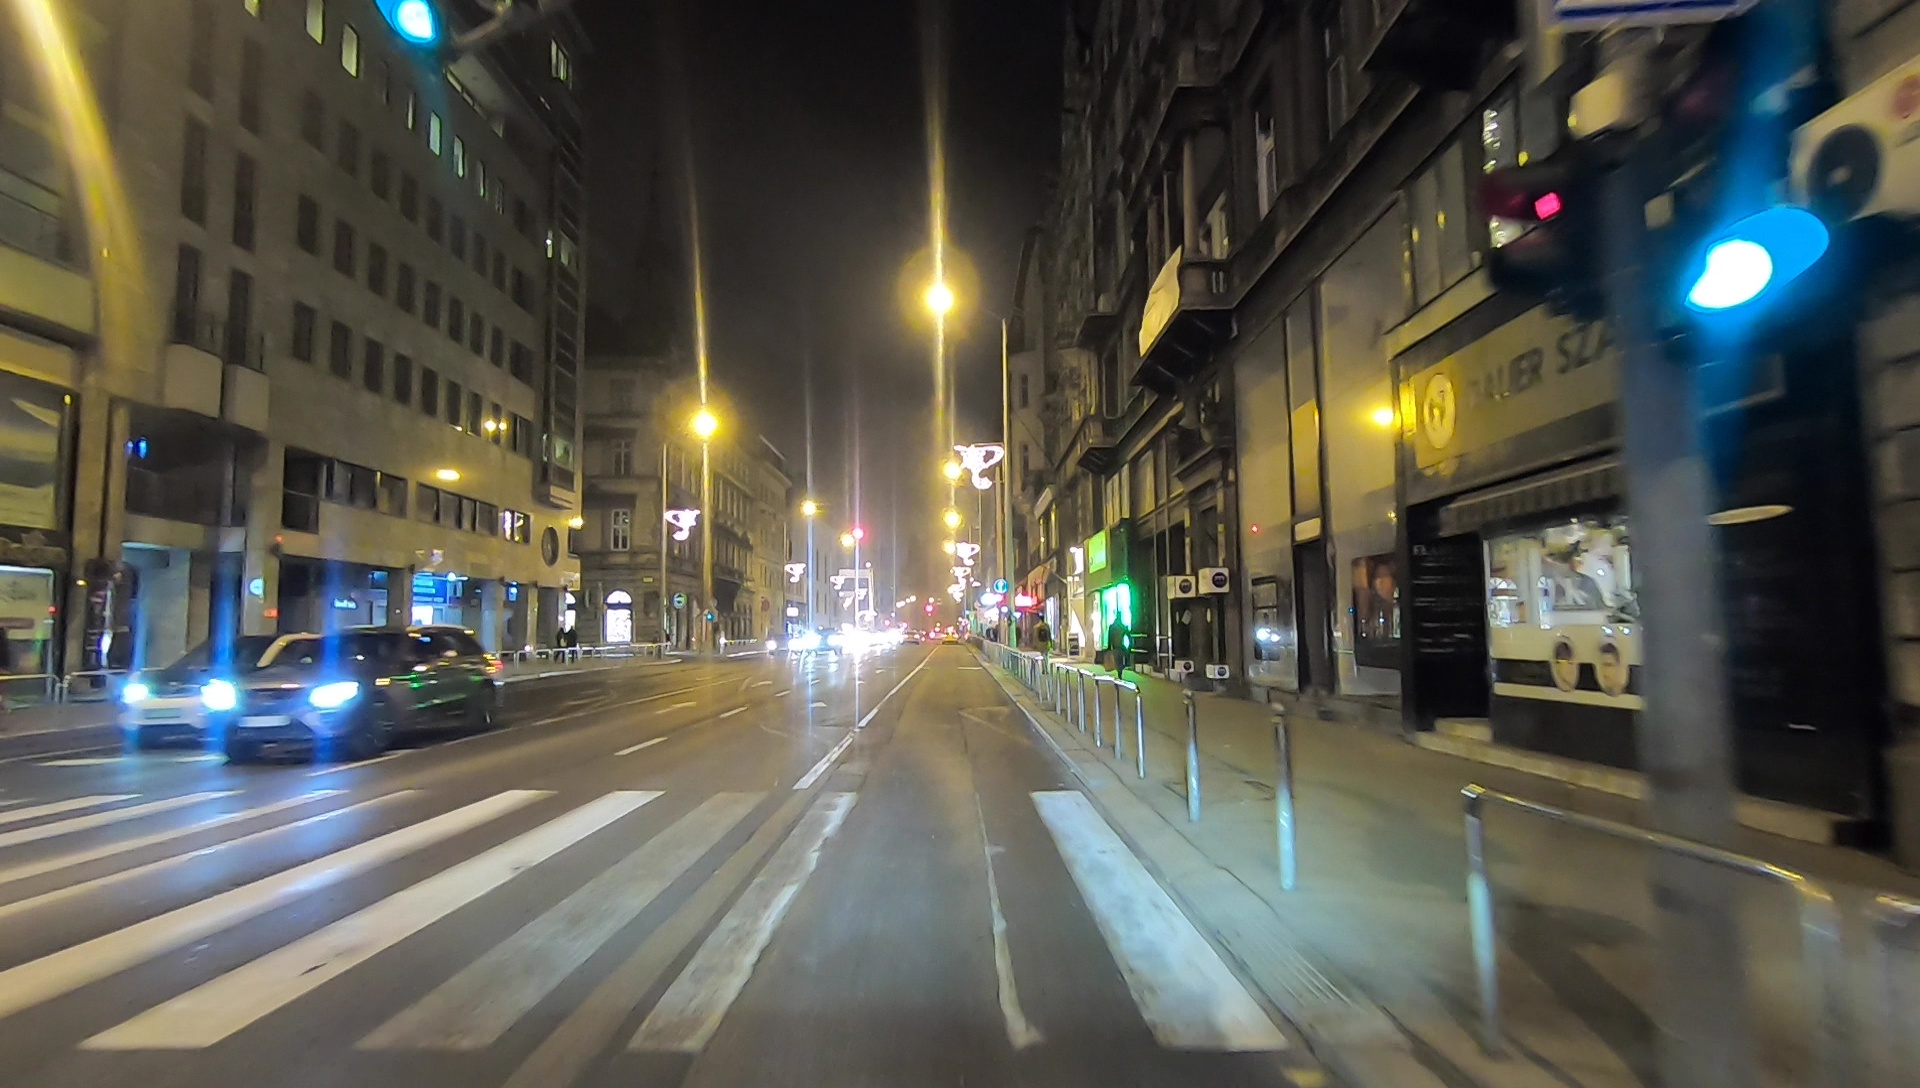person: (1108, 615, 1126, 678), (1032, 617, 1052, 667), (566, 626, 577, 662), (554, 626, 564, 662)
